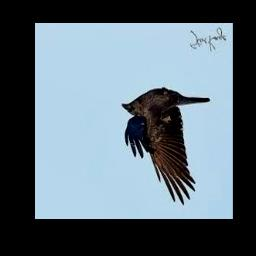Crow: (122, 88, 210, 205)
